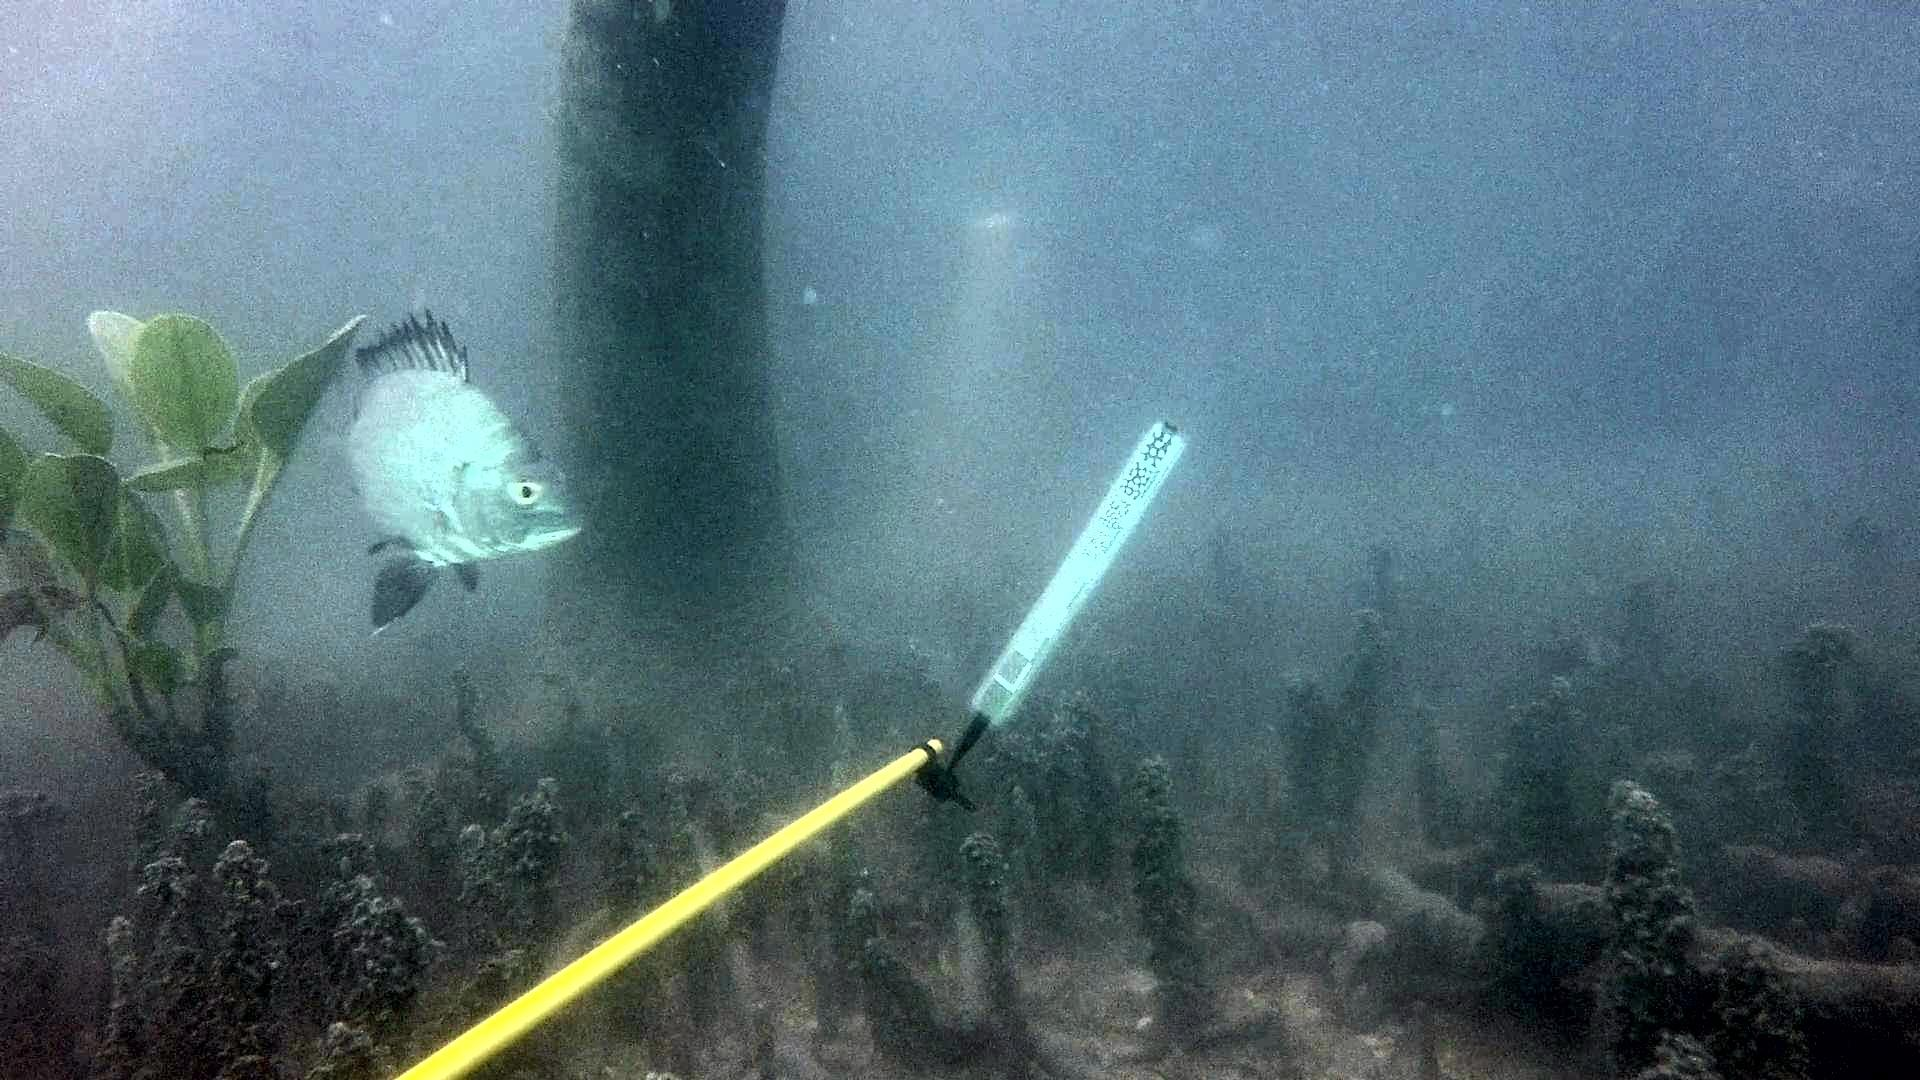acanthopagrus palmaris: (335, 298, 595, 642)
